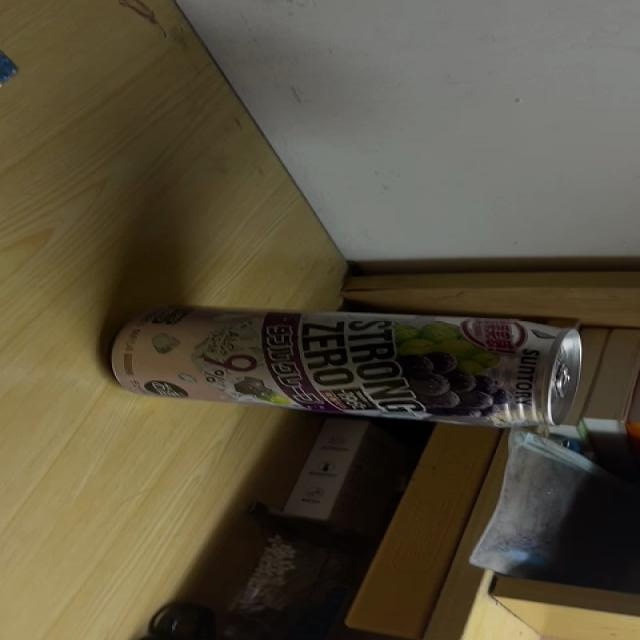Liquor: (103, 304, 585, 426)
